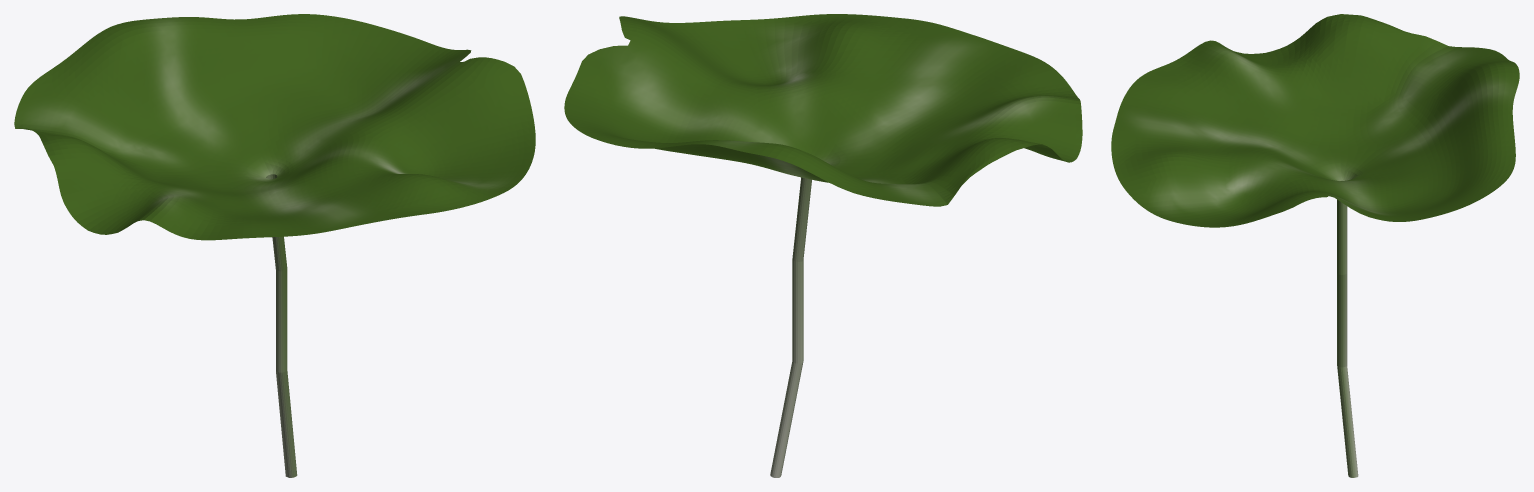
The model's file is trileaflotus.dae.
3 views of the same model, side by side, from view 1: azimuth 30°, elevation 25°; view 2: azimuth 150°, elevation 25°; view 3: azimuth 270°, elevation 25° (orthographic). The views are drawn at different scales.
Parts seen in each view (by area): view 1: node; view 2: node; view 3: node.
Boxes of the visible parts, left/top/right/bottom form: node: left=14, top=14, right=535, bottom=477; node: left=564, top=14, right=1082, bottom=477; node: left=1111, top=14, right=1519, bottom=477.
Bounding box in the file's own units: 29.82 × 25.9 × 25.85.
